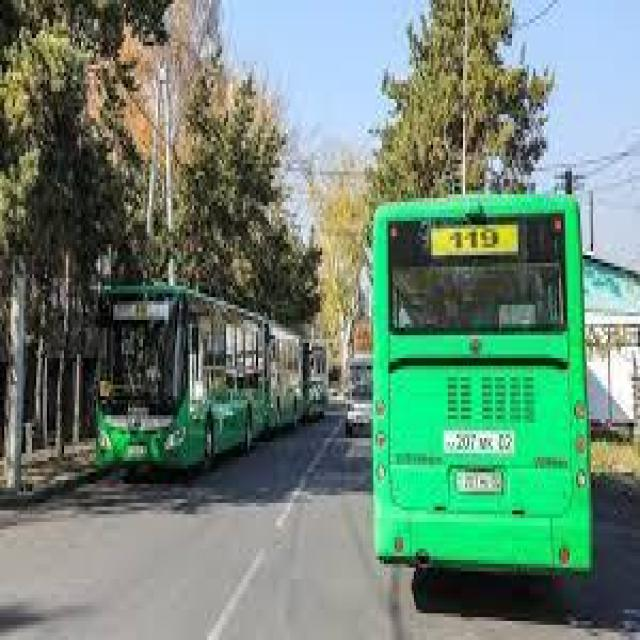bus: (366, 176, 598, 611), (88, 276, 304, 474)
